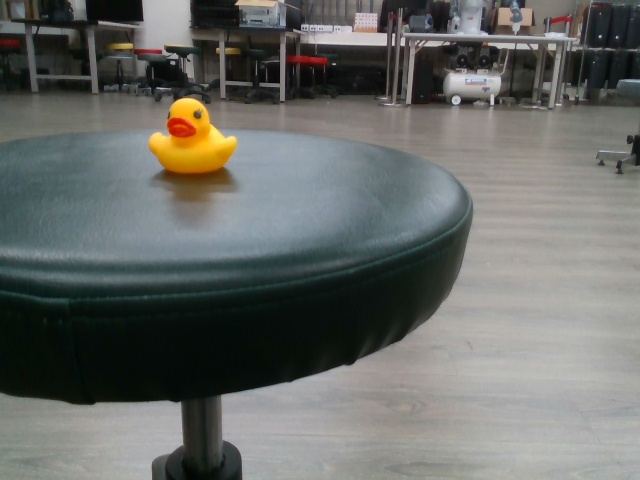duck: (144, 93, 242, 179)
